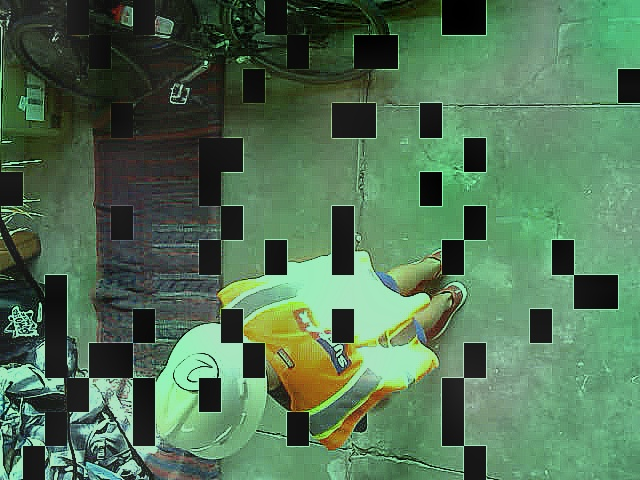two: (172, 349, 217, 390)
